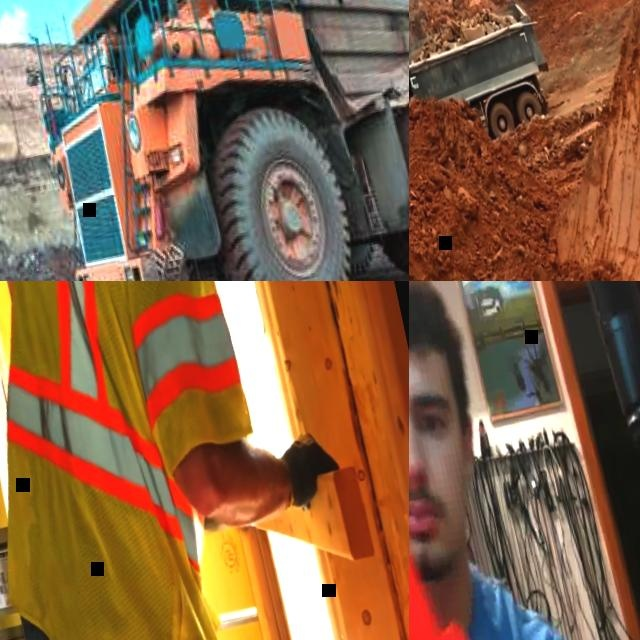NO-Hardhat: (409, 281, 458, 382)
NO-Mask: (409, 471, 467, 576)
NO-Safety Vest: (444, 580, 569, 640)
Person: (0, 281, 409, 640), (409, 281, 601, 640)
Safety Cone: (409, 281, 519, 640)
Safety Vest: (0, 281, 311, 640)
machinery: (0, 0, 409, 281), (409, 0, 562, 167)
